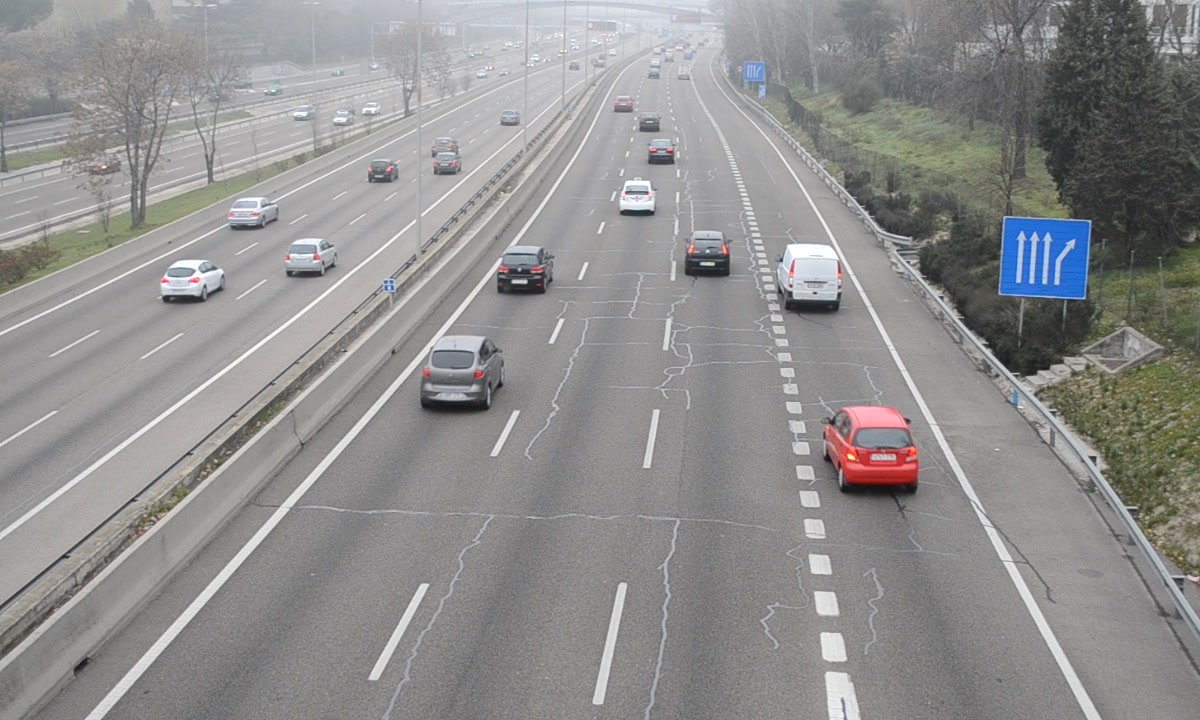car: (826, 405, 920, 487), (423, 337, 503, 409), (495, 246, 553, 295), (686, 229, 729, 276), (617, 179, 654, 214), (645, 138, 676, 167)
van: (781, 244, 843, 311)
